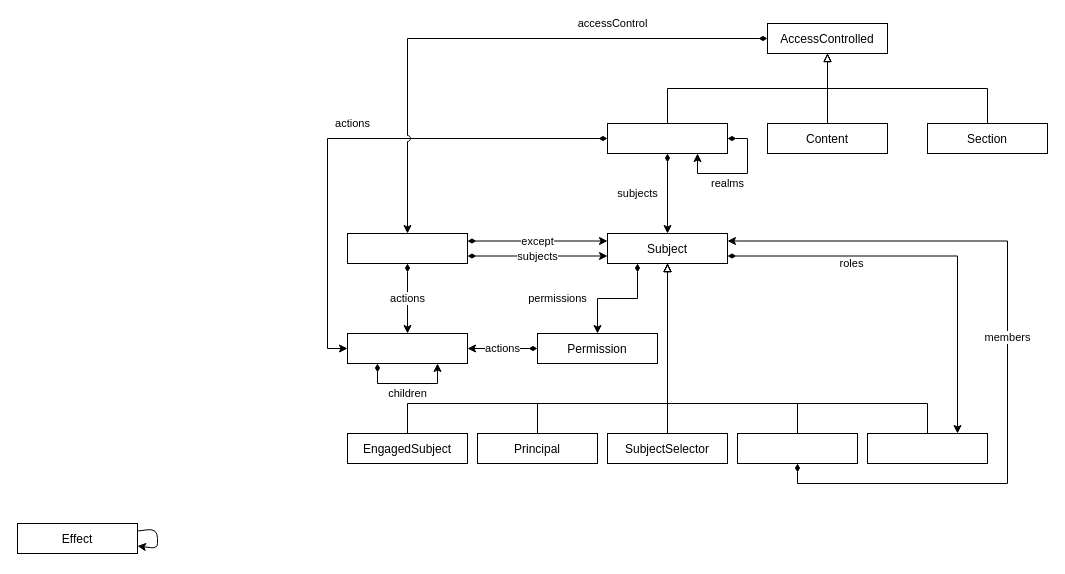
This 1065x574 diagram has some shape labels left out. Here are the shapes that lost their labels. From the top down, the box of each, then its label:
(606, 122, 728, 154): Realm
(346, 232, 468, 264): AccessControlEntry
(346, 332, 468, 364): Action
(736, 432, 858, 464): Group
(866, 432, 988, 464): Role
